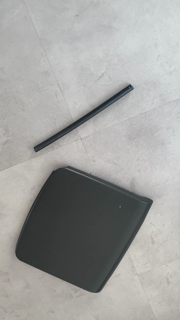Seat: (14, 161, 157, 298)
i pipe: (33, 83, 138, 155)
